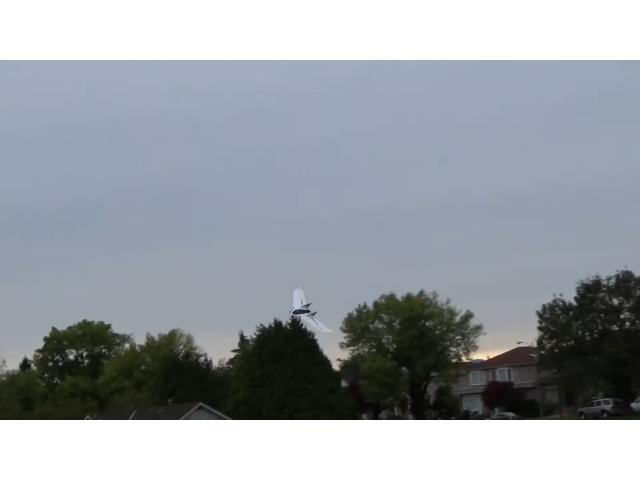Anti-Drone: (291, 288, 331, 332)
